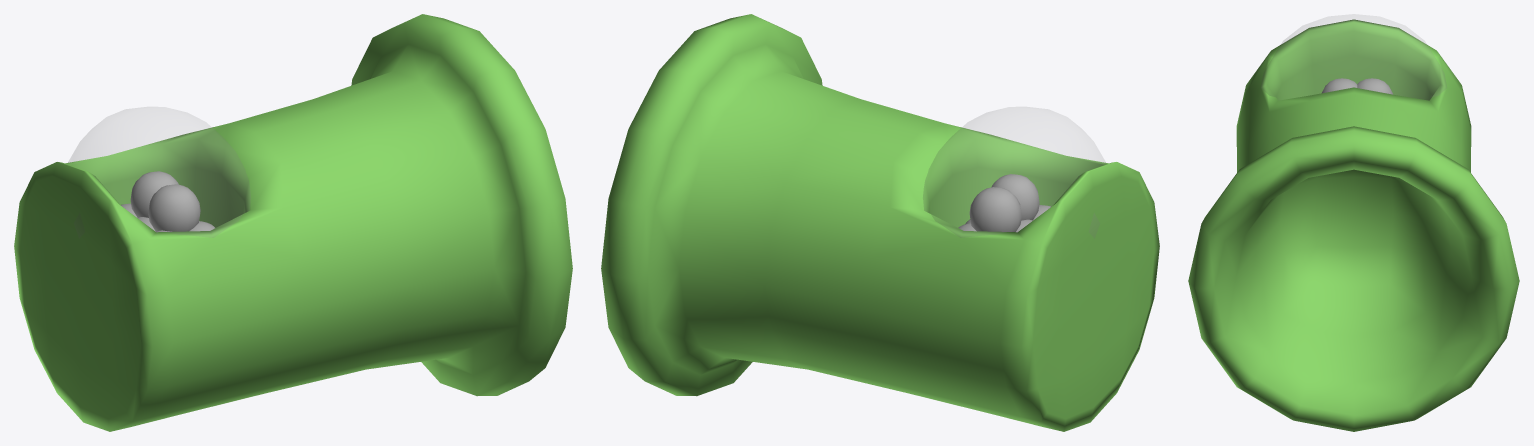
File: PewPewFInal.glb
3 renders of one model, left to right at view 1: azimuth 30°, elevation 25°; view 2: azimuth 150°, elevation 25°; view 3: azimuth 270°, elevation 25°, orthographic. The views are drawn at different scales.
Size of the model in its own units: 6.23 by 5.26 by 5.26.
